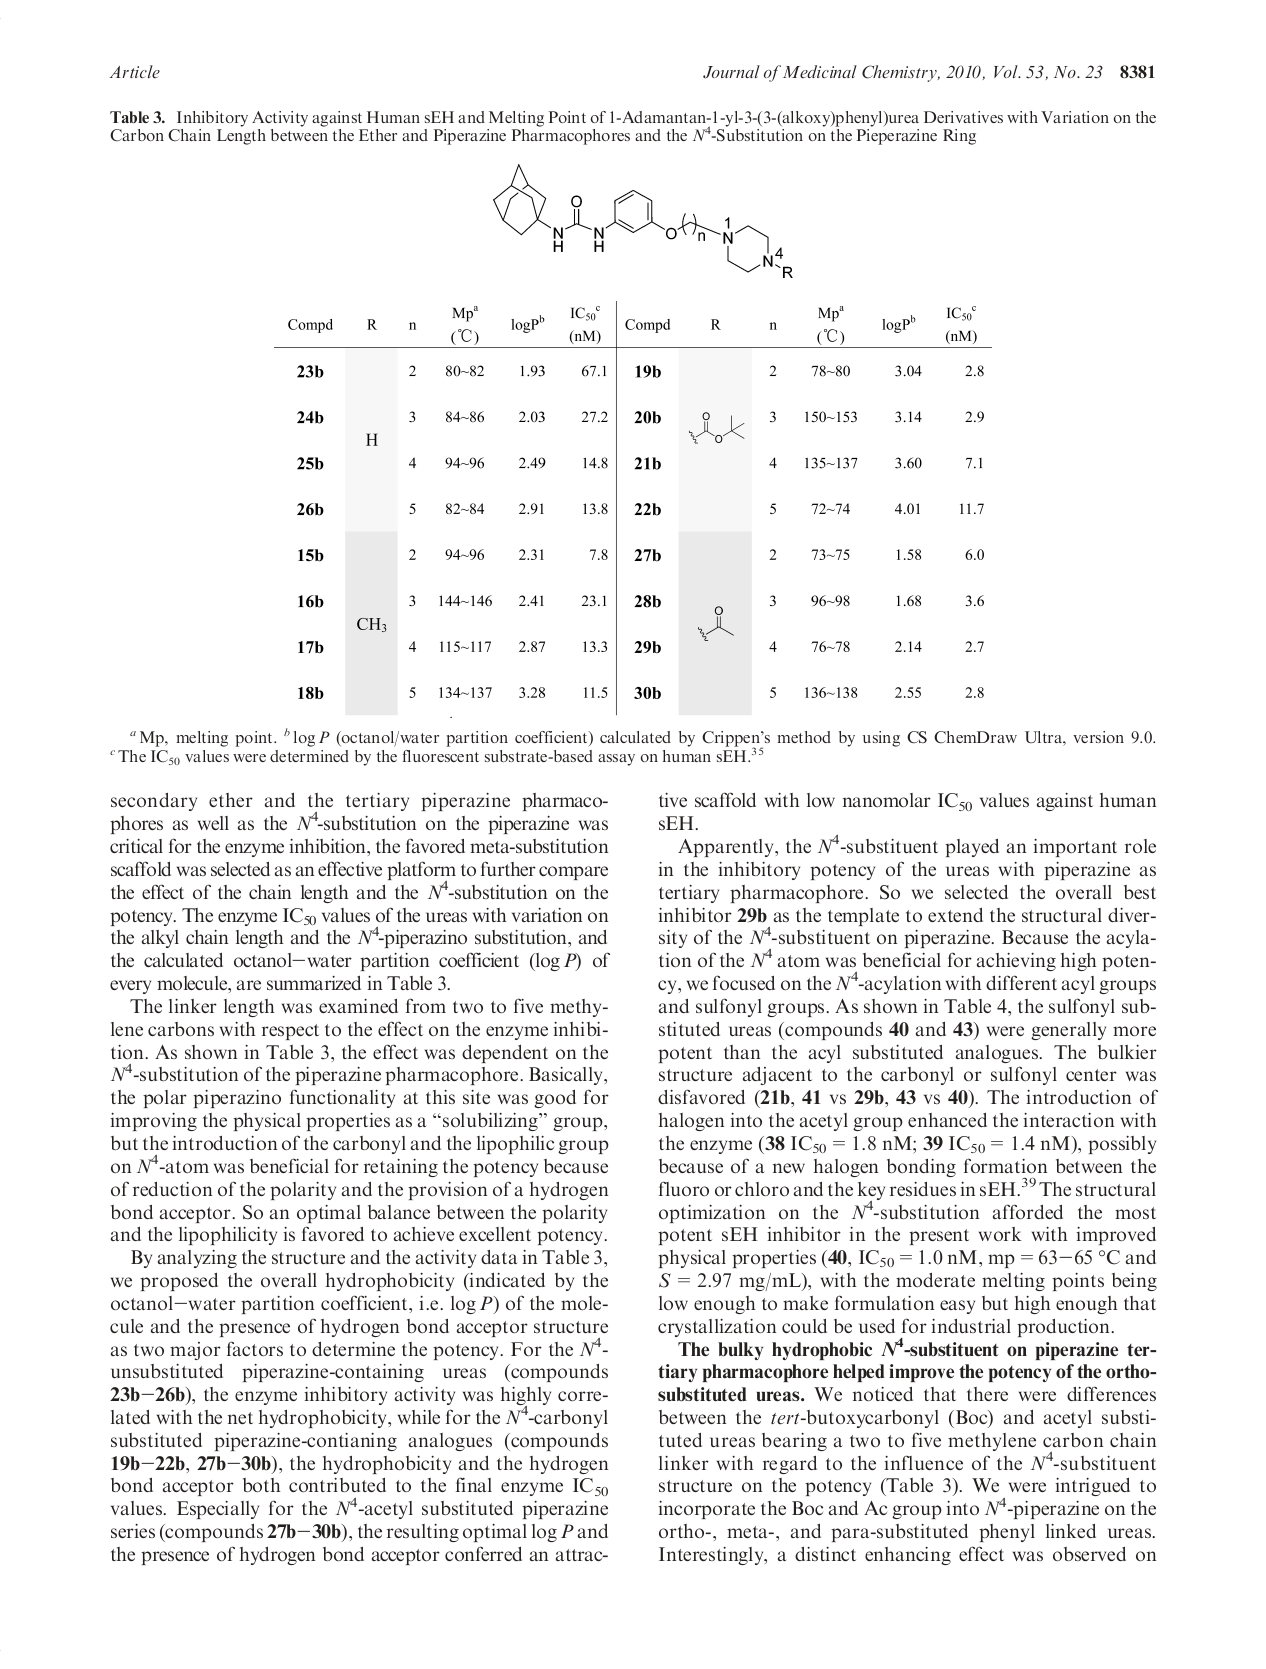exist_molecular: (489, 162, 795, 285), (686, 412, 745, 446), (696, 602, 734, 644)
